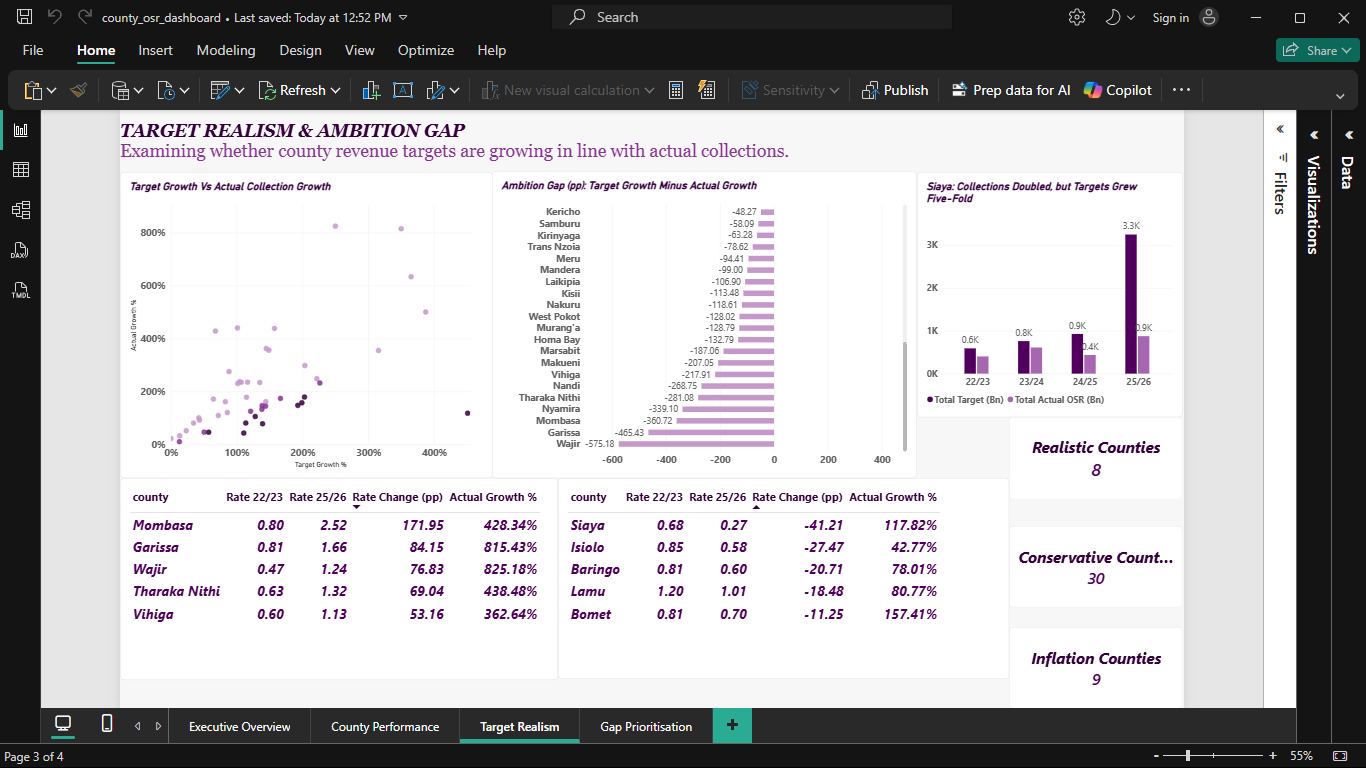

The dashboard page shown, as its layout file describes it:
{"tool":"powerbi","page":{"name":"Target Realism","canvas":[1920,1080],"ordinal":2},"visuals":[{"type":"textbox","box":[0,0,1918,140.9],"z":0},{"type":"scatterChart","title":"Target Growth Vs Actual Collection Growth","fields":{"Category":["county_osr.county"],"X":["county_osr.Target Growth %"],"Y":["county_osr.Actual Growth %"]},"box":[0,111.8,672.5,552.9],"z":1000},{"type":"clusteredColumnChart","title":"Siaya: Collections Doubled, but Targets Grew Five-Fold","fields":{"Category":["county_osr.financial_year"],"Y":["county_osr.Total Target (Bn)","county_osr.Total Actual OSR (Bn)"]},"box":[1439.2,111.8,480.4,443.1],"z":2000},{"type":"clusteredBarChart","title":"Ambition Gap (pp): Target Growth Minus Actual Growth","fields":{"Category":["county_osr.county"],"Y":["county_osr.Ambition Gap (pp)"]},"box":[672.5,109.8,766.7,554.9],"z":3000},{"type":"cardVisual","fields":{"Data":["county_osr.Inflation Counties"]},"box":[1605.9,933.3,313.7,147.1],"z":4000},{"type":"cardVisual","fields":{"Data":["county_osr.Conservative Counties"]},"box":[1605.9,751,313.7,147.1],"z":5000},{"type":"cardVisual","title":"Realistic Plannin","fields":{"Data":["county_osr.Realistic Counties"]},"box":[1605.9,554.9,313.7,149],"z":6000},{"type":"tableEx","fields":{"Values":["county_osr.county","county_osr.Rate 22/23","county_osr.Rate 25/26","county_osr.Rate Change (pp)","county_osr.Actual Growth %"]},"box":[0,664.6,791,364.8],"z":7000},{"type":"tableEx","fields":{"Values":["county_osr.county","county_osr.Rate 22/23","county_osr.Rate 25/26","county_osr.Rate Change (pp)","county_osr.Actual Growth %"]},"box":[791,664.6,814.5,363],"z":9000}]}

Visuals, with their boxes on the page's 1920x1080 design canvas (x1, y1, x2, y2). These are canvas units, not pixel positions in the 1366x768 screenshot, which may show the page scaled, cropped or inside an application window:
textbox: [x1=0, y1=0, x2=1918, y2=141]
"Target Growth Vs Actual Collection Growth" scatterChart: [x1=0, y1=112, x2=672, y2=665]
"Siaya: Collections Doubled, but Targets Grew Five-Fold" clusteredColumnChart: [x1=1439, y1=112, x2=1920, y2=555]
"Ambition Gap (pp): Target Growth Minus Actual Growth" clusteredBarChart: [x1=672, y1=110, x2=1439, y2=665]
cardVisual - county_osr.Inflation Counties: [x1=1606, y1=933, x2=1920, y2=1080]
cardVisual - county_osr.Conservative Counties: [x1=1606, y1=751, x2=1920, y2=898]
"Realistic Plannin" cardVisual: [x1=1606, y1=555, x2=1920, y2=704]
tableEx - county_osr.county x county_osr.Rate 22/23: [x1=0, y1=665, x2=791, y2=1029]
tableEx - county_osr.county x county_osr.Rate 22/23: [x1=791, y1=665, x2=1606, y2=1028]
